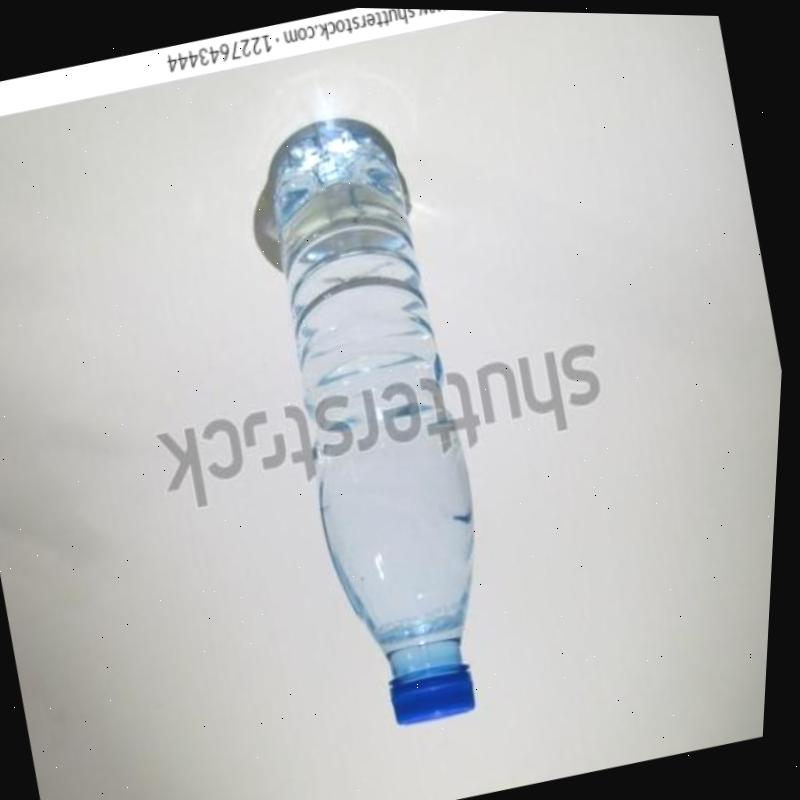botella: (232, 102, 541, 733)
